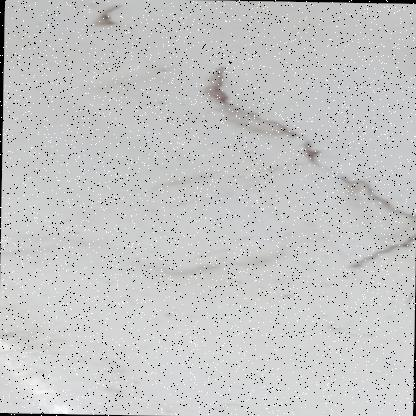Crack: (186, 41, 415, 381), (51, 0, 158, 44)
